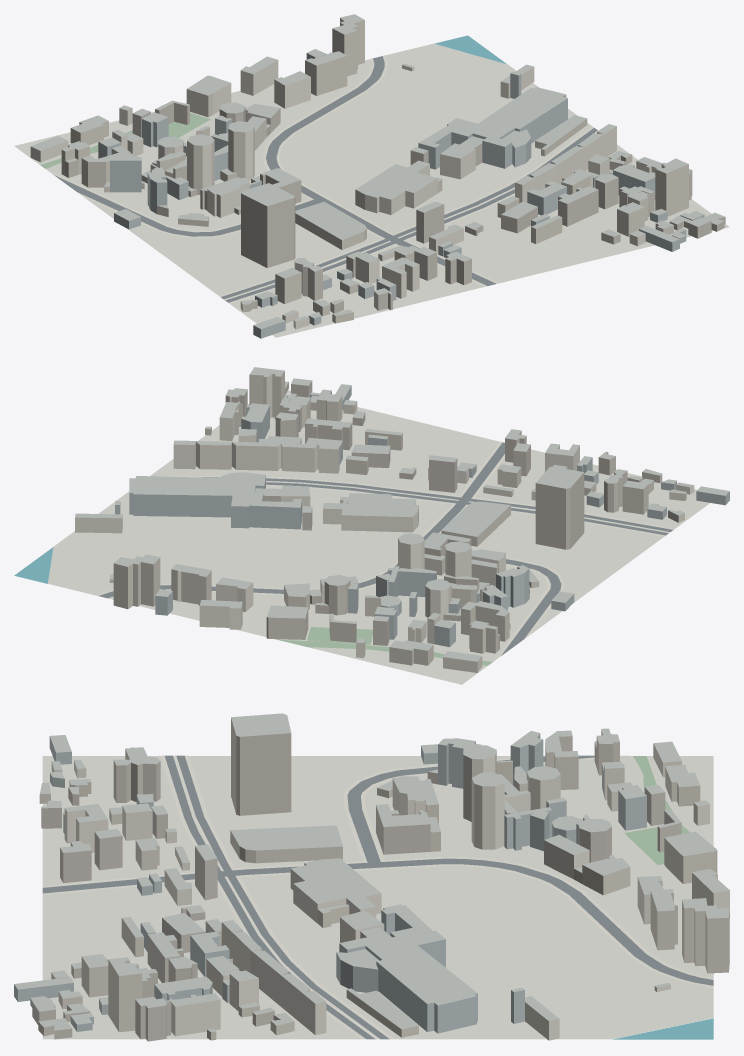
The picture shows the model from 3 angles, top to bottom: view 1: azimuth 30°, elevation 25°; view 2: azimuth 150°, elevation 25°; view 3: azimuth 270°, elevation 25°; orthographic projection. The views are drawn at different scales.
Visible parts, largest first — view 1: city; view 2: city; view 3: city.
Part boxes in pixels (x1,y1,x2,y2): city: (14, 14, 729, 338); city: (14, 367, 729, 684); city: (14, 713, 729, 1041).
Bounding box in the file's own units: 519 × 65.18 × 533.
